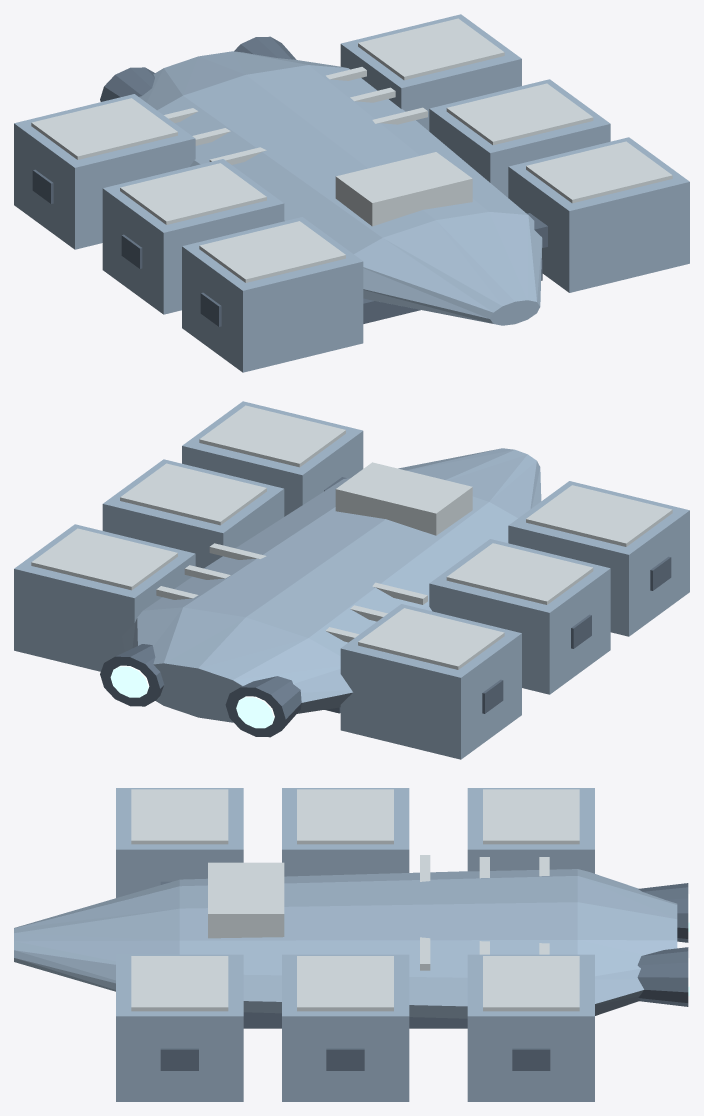
3 renders of one model, top to bottom at view 1: azimuth 30°, elevation 25°; view 2: azimuth 150°, elevation 25°; view 3: azimuth 270°, elevation 25°, orthographic. The views are drawn at different scales.
Size of the model in its own units: 8.14 by 1.64 by 10.07.
